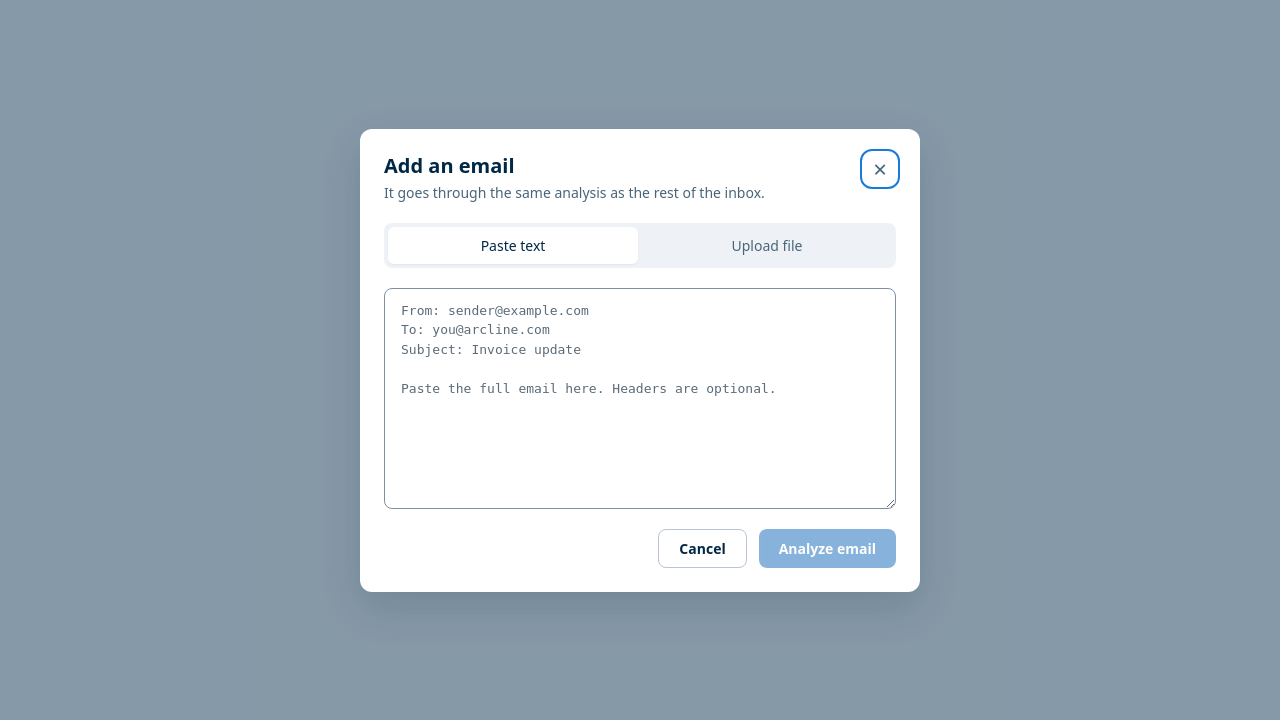
Scenario: AddEmailDialog submit state › shows the server error inside the dialog and lets the user try again
Replace the text in the text box named "Email text" with "   x" at (640, 398), box 384,288 -> 896,508
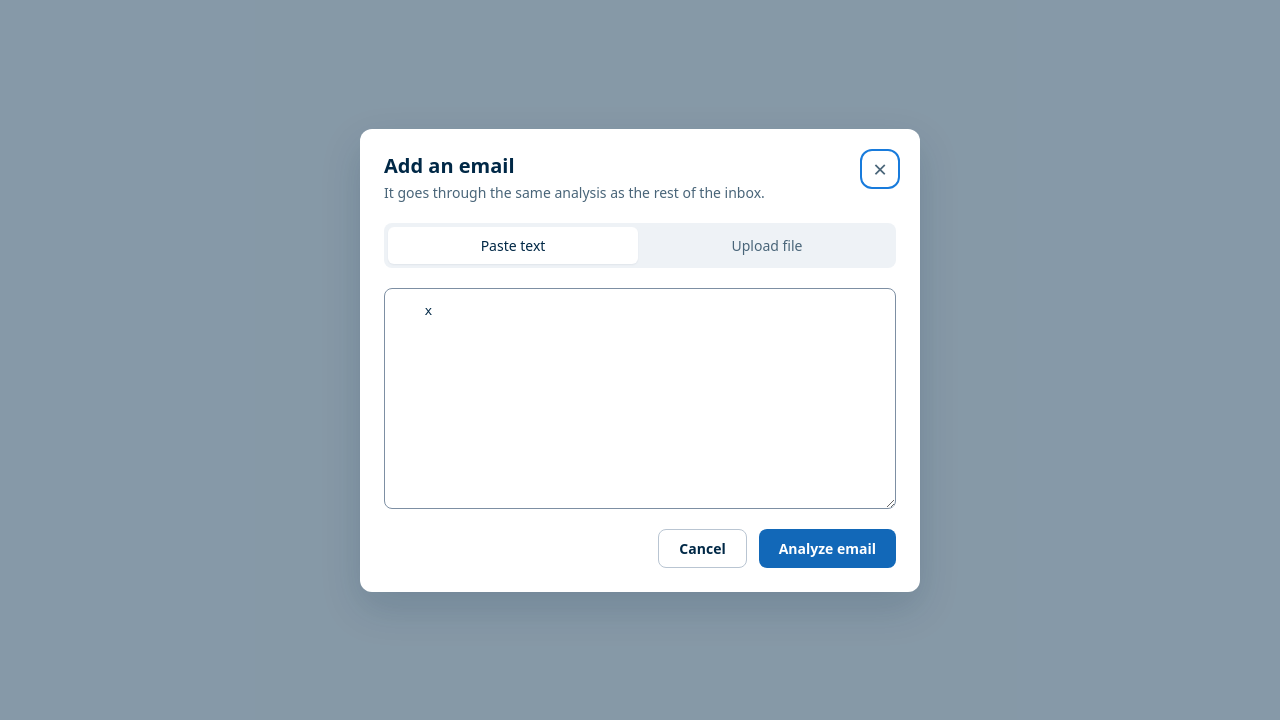
Click the button "Analyze email" at (827, 548), box 759,528 -> 896,568
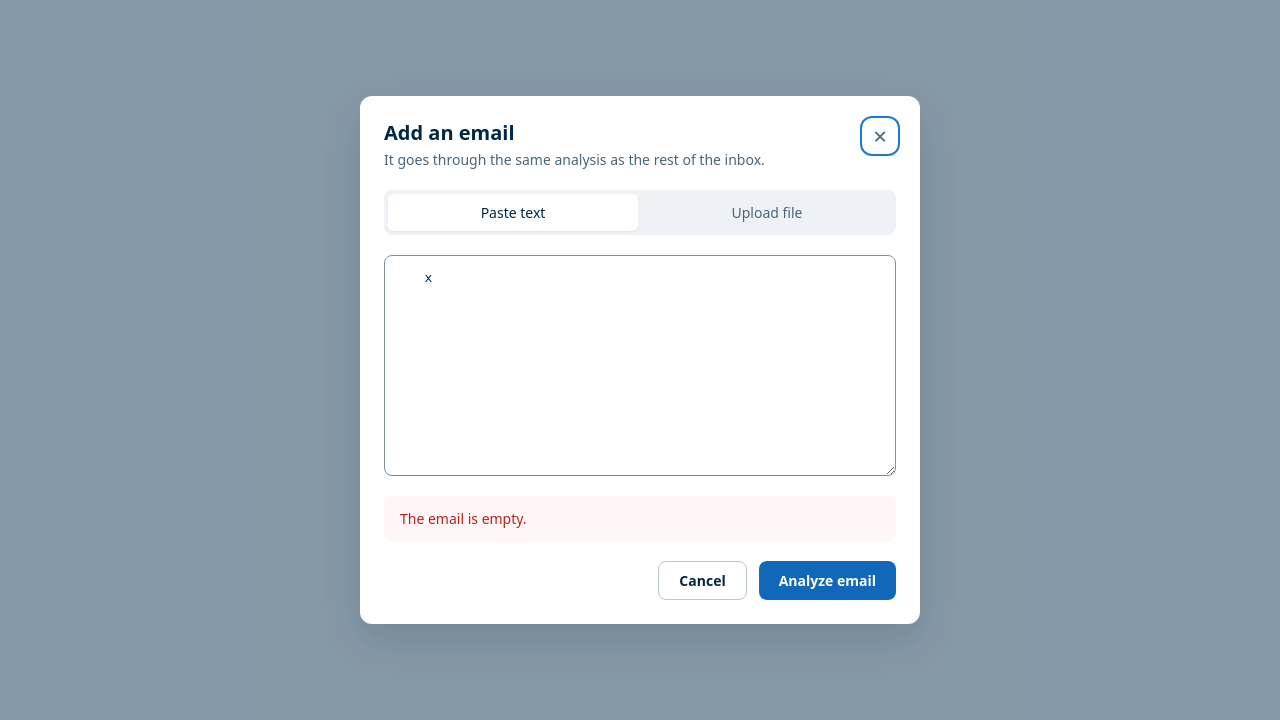
Expected: the button "Analyze email" is shown, 759,561 -> 896,600
Result: the message reads "The email is empty." at 400,509 -> 527,528
